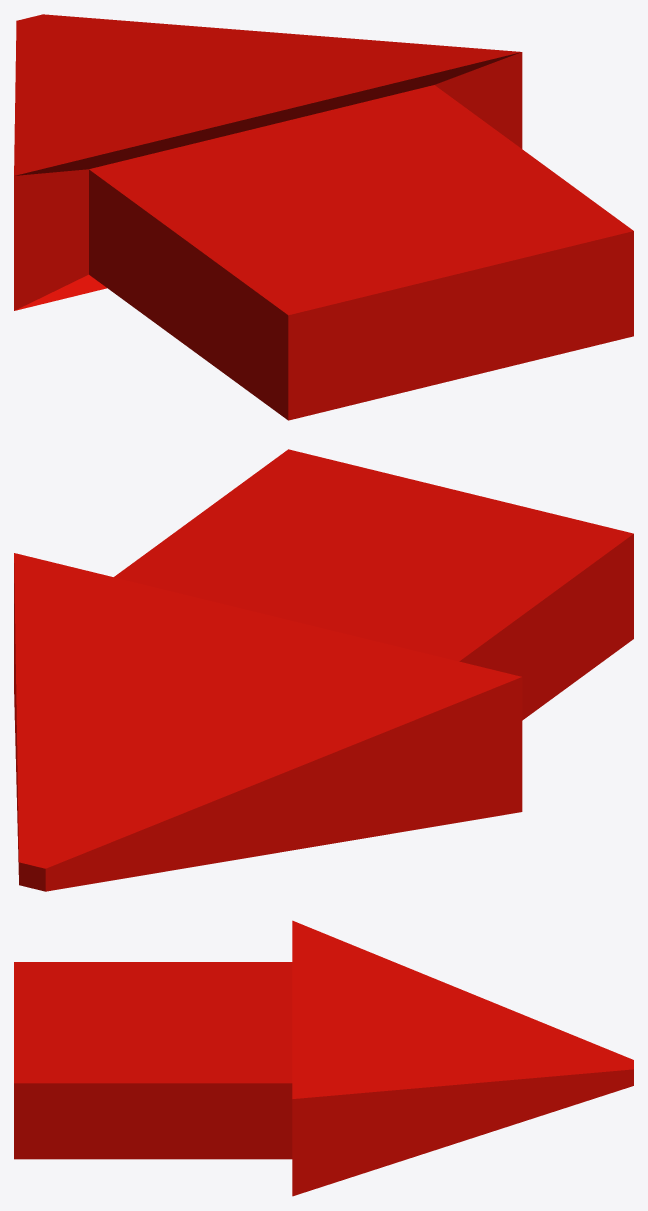
File: arrow.glb
3 renders of one model, top to bottom at view 1: azimuth 30°, elevation 25°; view 2: azimuth 150°, elevation 25°; view 3: azimuth 270°, elevation 25°, orthographic. The views are drawn at different scales.
Visible parts, largest first — view 1: Arrow; view 2: Arrow; view 3: Arrow.
Part boxes in pixels (bbox=[...]): Arrow: bbox=[14, 14, 633, 420]; Arrow: bbox=[14, 449, 633, 891]; Arrow: bbox=[14, 920, 633, 1196].
Size of the model in its own units: 0.2387 by 0.0606 by 0.3499.
